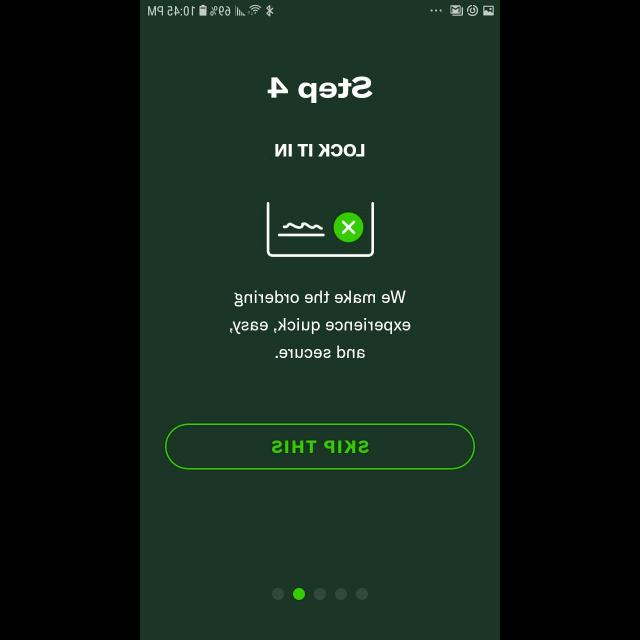image: (266, 202, 374, 258)
pageindicator: (272, 588, 368, 600)
text: (230, 290, 410, 358), (268, 76, 372, 104), (275, 144, 365, 156)
textbutton: (165, 422, 475, 470)
uppertaskbar: (140, 1, 500, 18)
